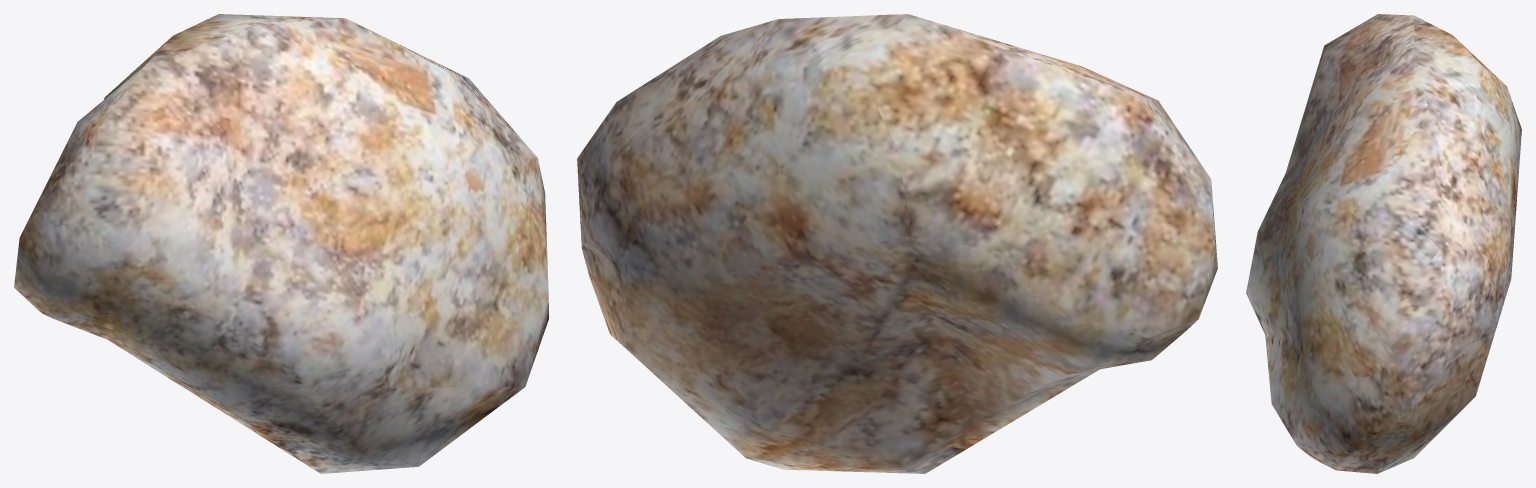
3 views of the same model, side by side, from view 1: azimuth 30°, elevation 25°; view 2: azimuth 150°, elevation 25°; view 3: azimuth 270°, elevation 25° (orthographic). The views are drawn at different scales.
Parts seen in each view (by area): view 1: rock035_lod4; view 2: rock035_lod4; view 3: rock035_lod4.
Part boxes in pixels (box(x1,y1,x2,y2)): rock035_lod4: box(14, 14, 548, 473); rock035_lod4: box(577, 14, 1217, 473); rock035_lod4: box(1246, 14, 1521, 473).
Bounding box in the file's own units: 1 × 0.7794 × 0.5263.
1 material, 1 textured.
